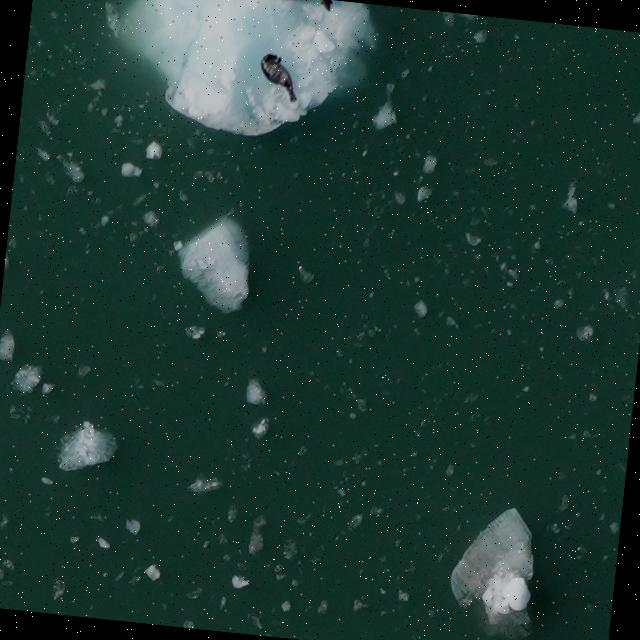seal: (252, 47, 305, 106)
